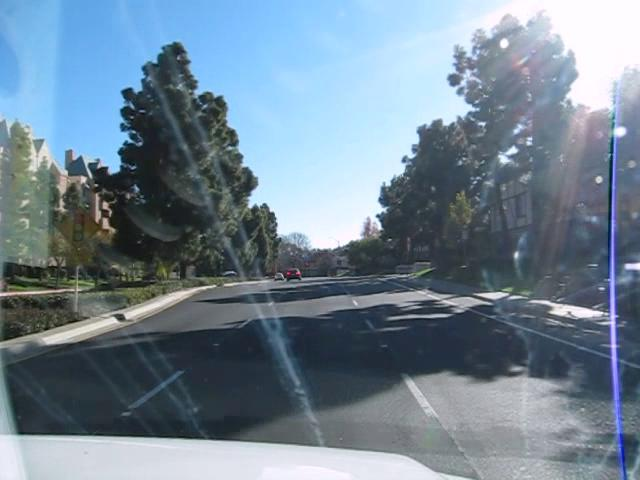signalAhead: (55, 204, 101, 249)
